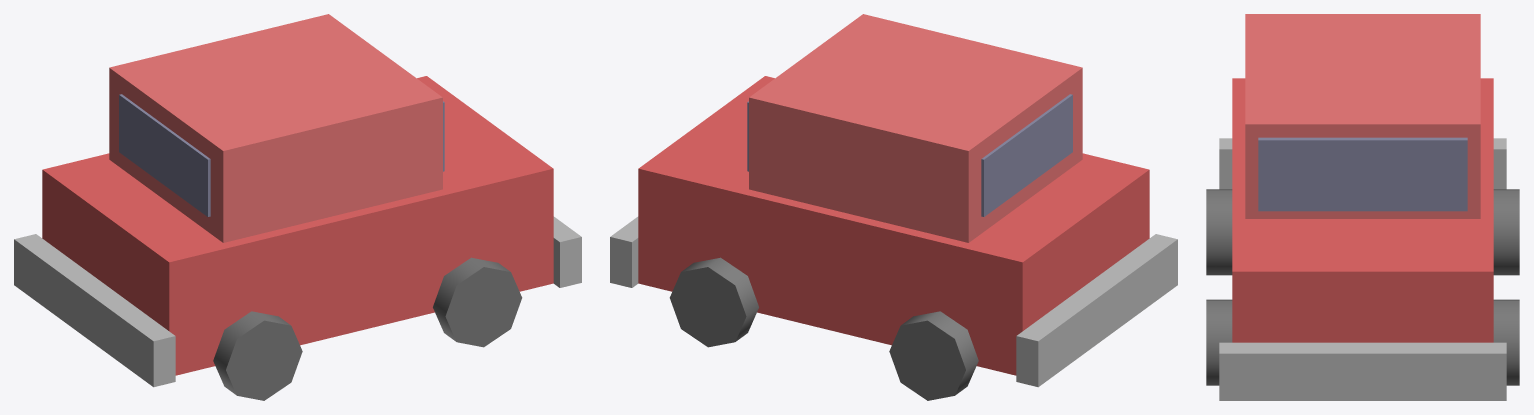
File: toy-car.glb
3 views of the same model, side by side, from view 1: azimuth 30°, elevation 25°; view 2: azimuth 150°, elevation 25°; view 3: azimuth 270°, elevation 25° (orthographic). The views are drawn at different scales.
Parts seen in each view (by area): view 1: body, cabin, front-bumper, wheel-0, windshield; view 2: body, cabin, front-bumper, wheel-0, windshield; view 3: body, cabin, front-bumper, windshield, wheel-0.
Part boxes in pixels (x1,y1,x2,y2): body: (42,76,553,375); cabin: (109,14,442,242); front-bumper: (14,216,581,387); wheel-0: (213,257,522,400); windshield: (119,94,444,216); body: (638,76,1149,375); cabin: (749,14,1082,242); front-bumper: (610,216,1177,387); wheel-0: (669,257,978,400); windshield: (747,94,1072,216); body: (1232,78,1493,342); cabin: (1245,14,1480,218); front-bumper: (1219,138,1506,400); windshield: (1258,137,1467,211); wheel-0: (1206,189,1519,385).
Size of the model in its own units: 0.39 by 0.21 by 0.24.
